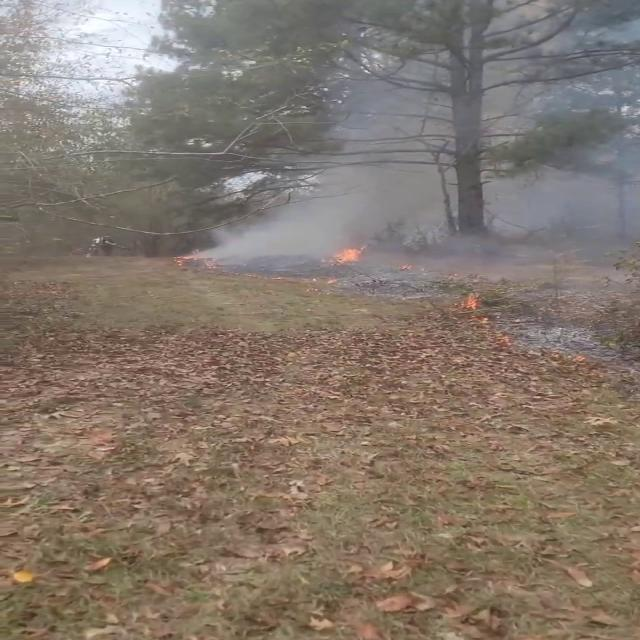Fire: (328, 240, 368, 268)
Smoke: (198, 1, 638, 288)
